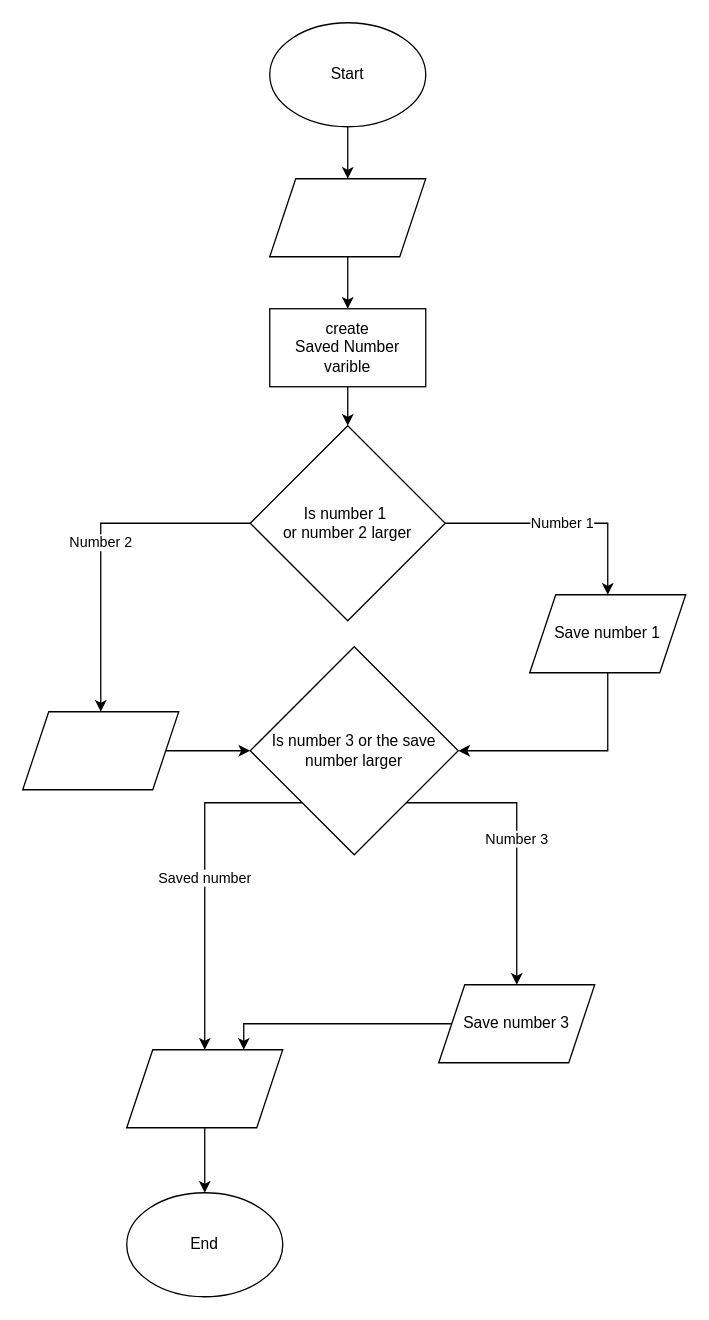
Some shapes in this 709 by 1320 pixel diagram are drawn without their labels. Each missing label, with the centre of its shape:
Get 3 numbers: the point at 347,217
Return saved number: the point at 204,1088
Save number 2: the point at 100,750
